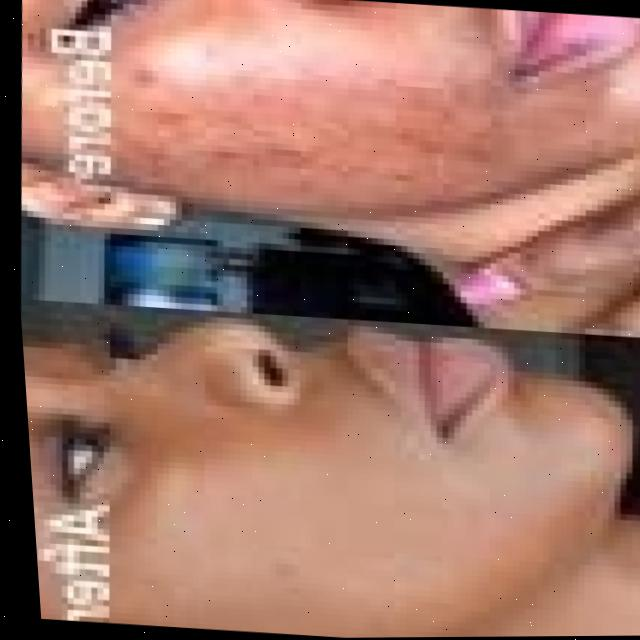Melasma: (98, 27, 640, 241)
